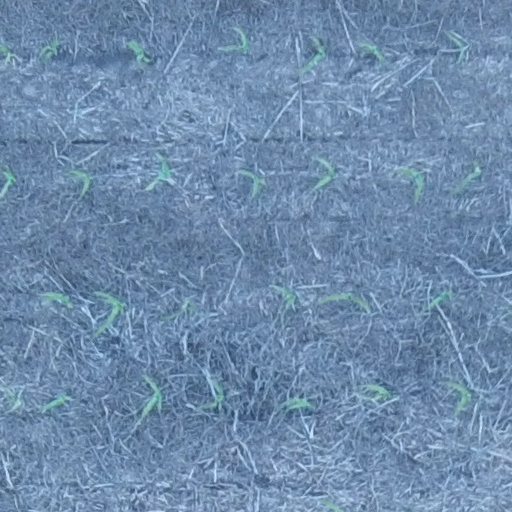planta: (92, 289, 125, 335), (143, 151, 172, 192), (453, 156, 482, 194), (391, 166, 423, 199), (442, 380, 472, 413), (442, 28, 469, 64), (300, 36, 327, 72), (316, 291, 370, 309), (139, 373, 162, 415), (266, 282, 296, 314), (162, 296, 199, 321), (199, 378, 225, 410), (313, 155, 336, 190), (67, 168, 93, 196), (126, 40, 153, 65), (222, 28, 249, 52), (238, 169, 262, 196), (423, 289, 452, 309), (39, 393, 68, 412), (361, 42, 384, 65), (363, 383, 392, 400), (39, 38, 59, 59), (42, 291, 71, 305), (282, 397, 312, 410)
